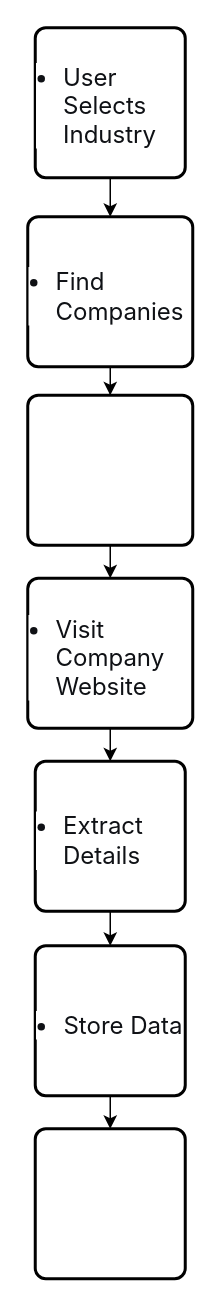
The diagram is 219 pixels wide and 1305 high, and some of its shapes have lost their labels. The centre of each missing label's shape, as x and y in pixels:
"Collect Business Information" belongs at point (110, 469).
"Lead Scoring (Future ML Phase)" belongs at point (109, 1203).
